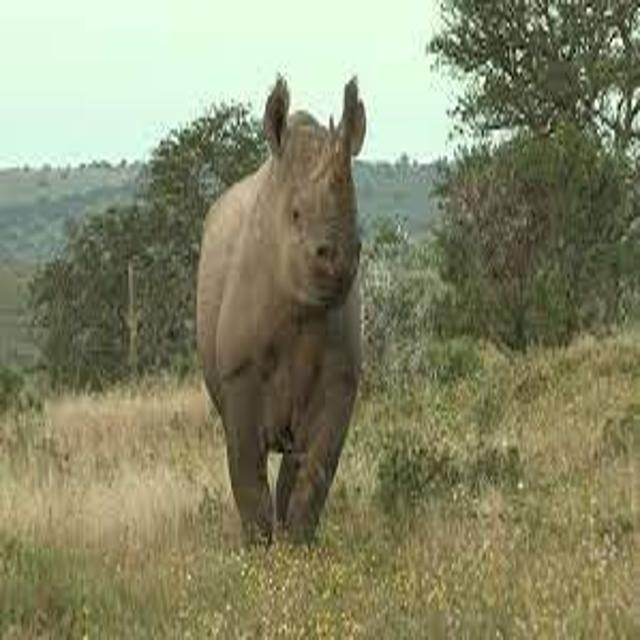Rinoceros: (178, 85, 406, 620)
